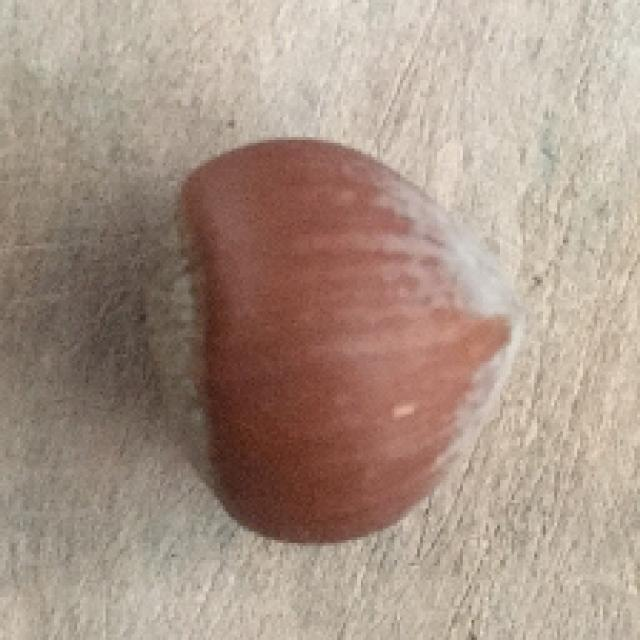qualityHazelnut: (144, 136, 530, 547)
